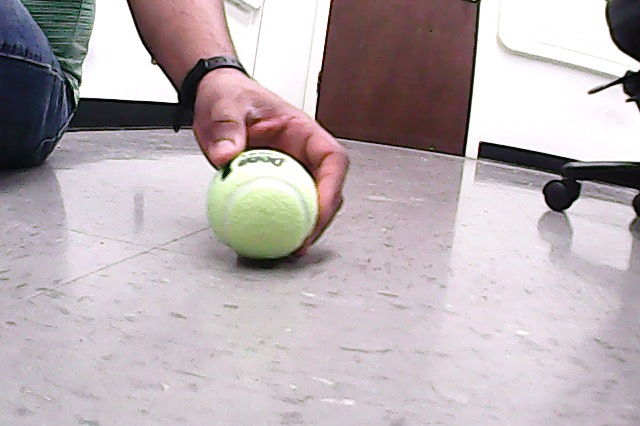ball: (207, 150, 319, 260)
